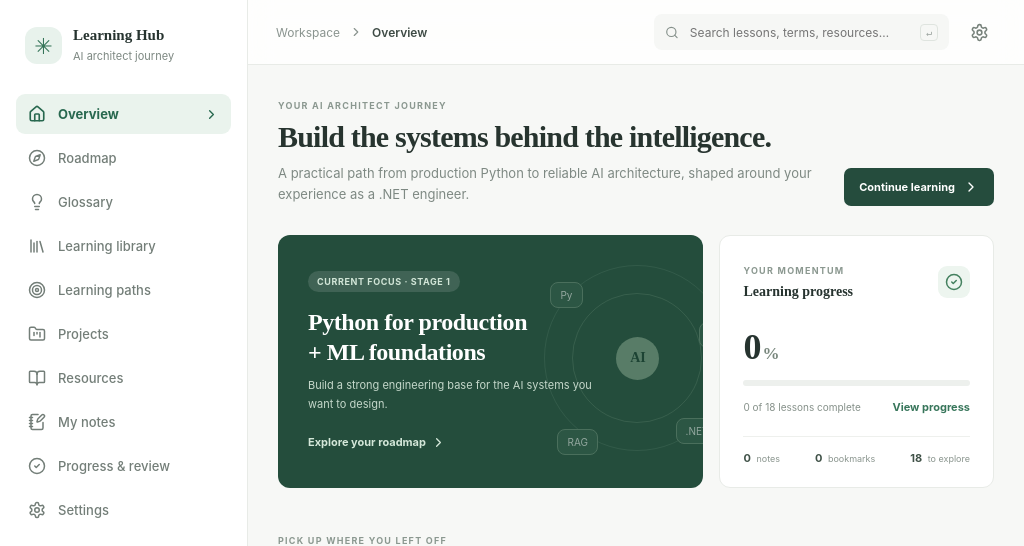
Test: learning hub flows › opens lesson library and marks a lesson complete
Step 1. Click the button "Learning library" → (124, 246), box [16,226,231,266]
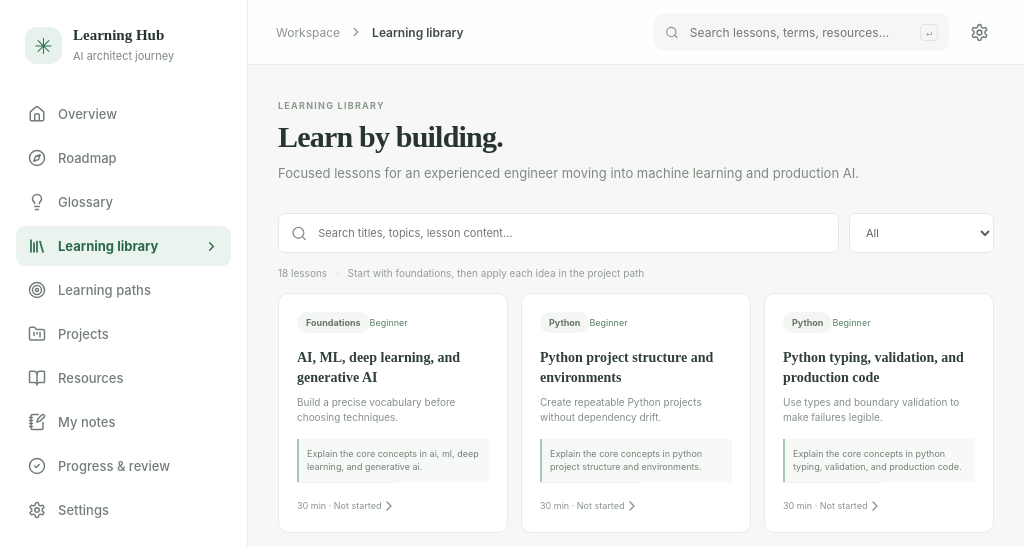
Step 2. Click the button "AI, ML, deep learning, and generative AI" → (393, 413), box [278,293,508,533]
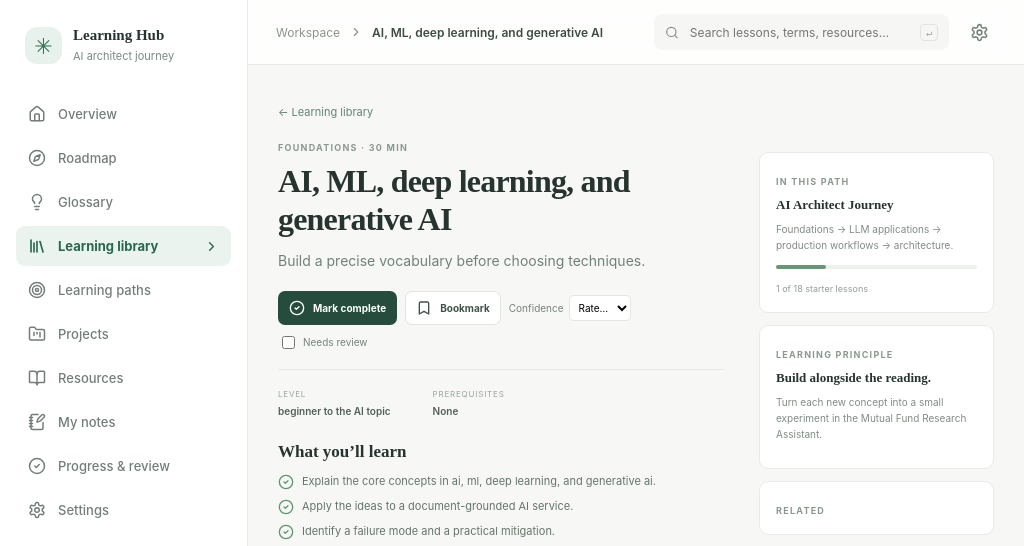
Step 3. Click the button "Mark complete" → (338, 308), box [278,291,397,325]
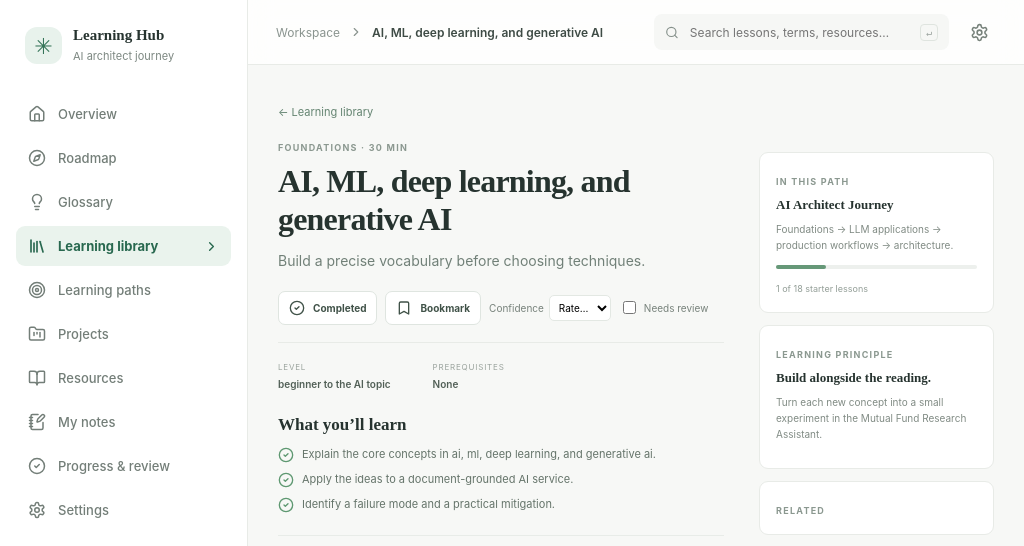
expect the button "Completed" is shown: met, box [278,291,378,325]
